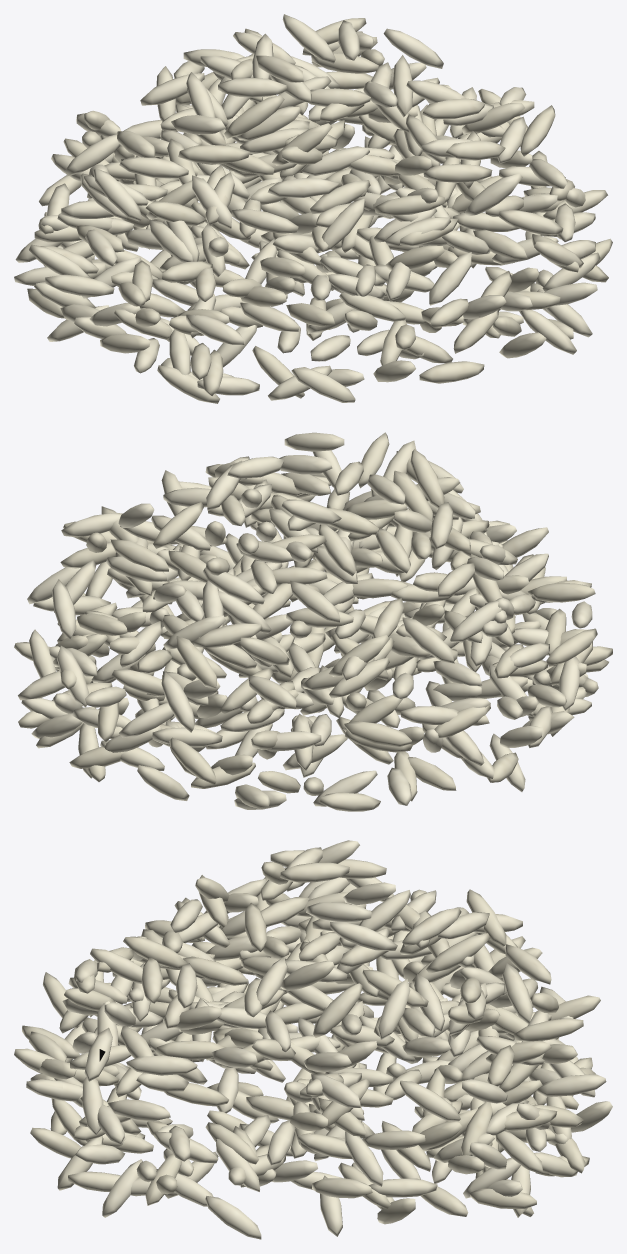
File: rice.glb
3 renders of one model, top to bottom at view 1: azimuth 30°, elevation 25°; view 2: azimuth 150°, elevation 25°; view 3: azimuth 270°, elevation 25°, orthographic.
Parts seen in each view (by area): view 1: rice; view 2: rice; view 3: rice.
Boxes of the visible parts, x1,y1,x2,y2 form: rice: (14, 14, 612, 403); rice: (14, 432, 612, 811); rice: (14, 840, 612, 1239).
Size of the model in its own units: 0.0581 by 0.0274 by 0.0581.
Materials: 1 (1 with a texture image).
